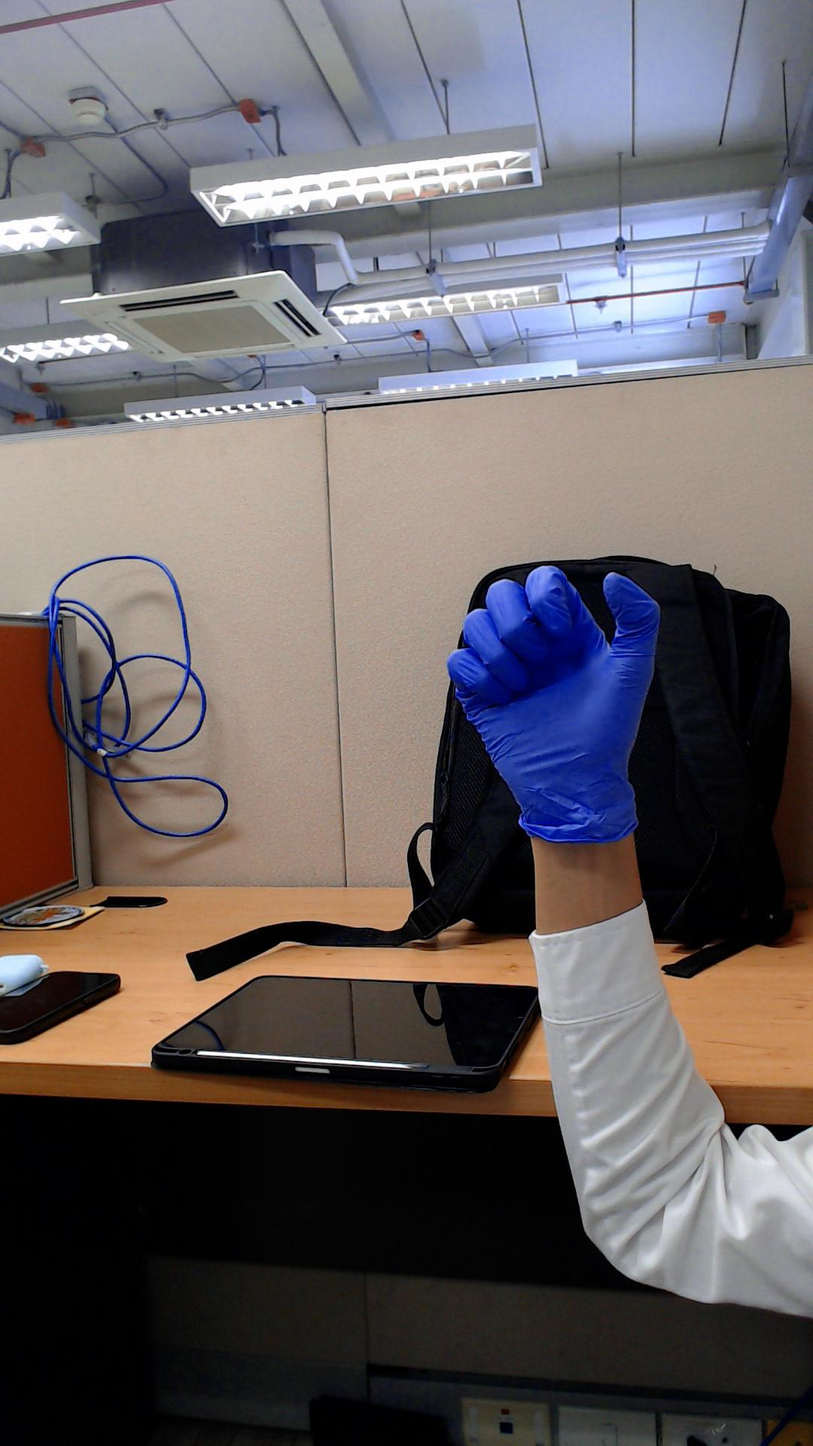gloves: (430, 530, 679, 776)
